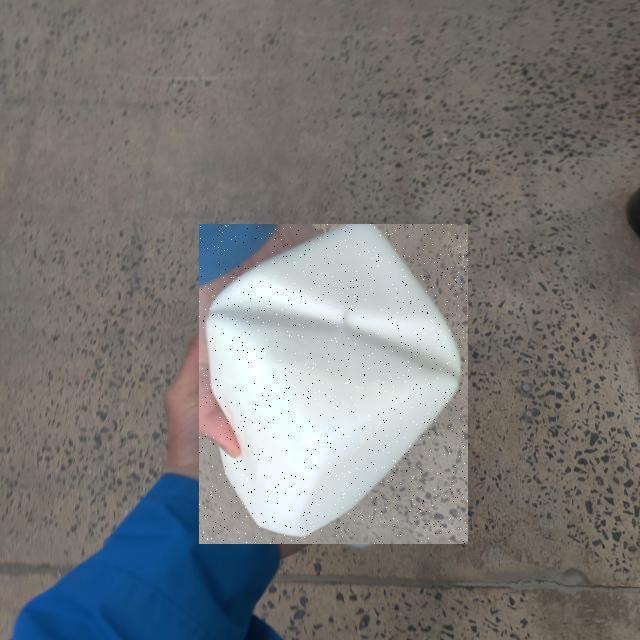Milk: (199, 224, 468, 544)
